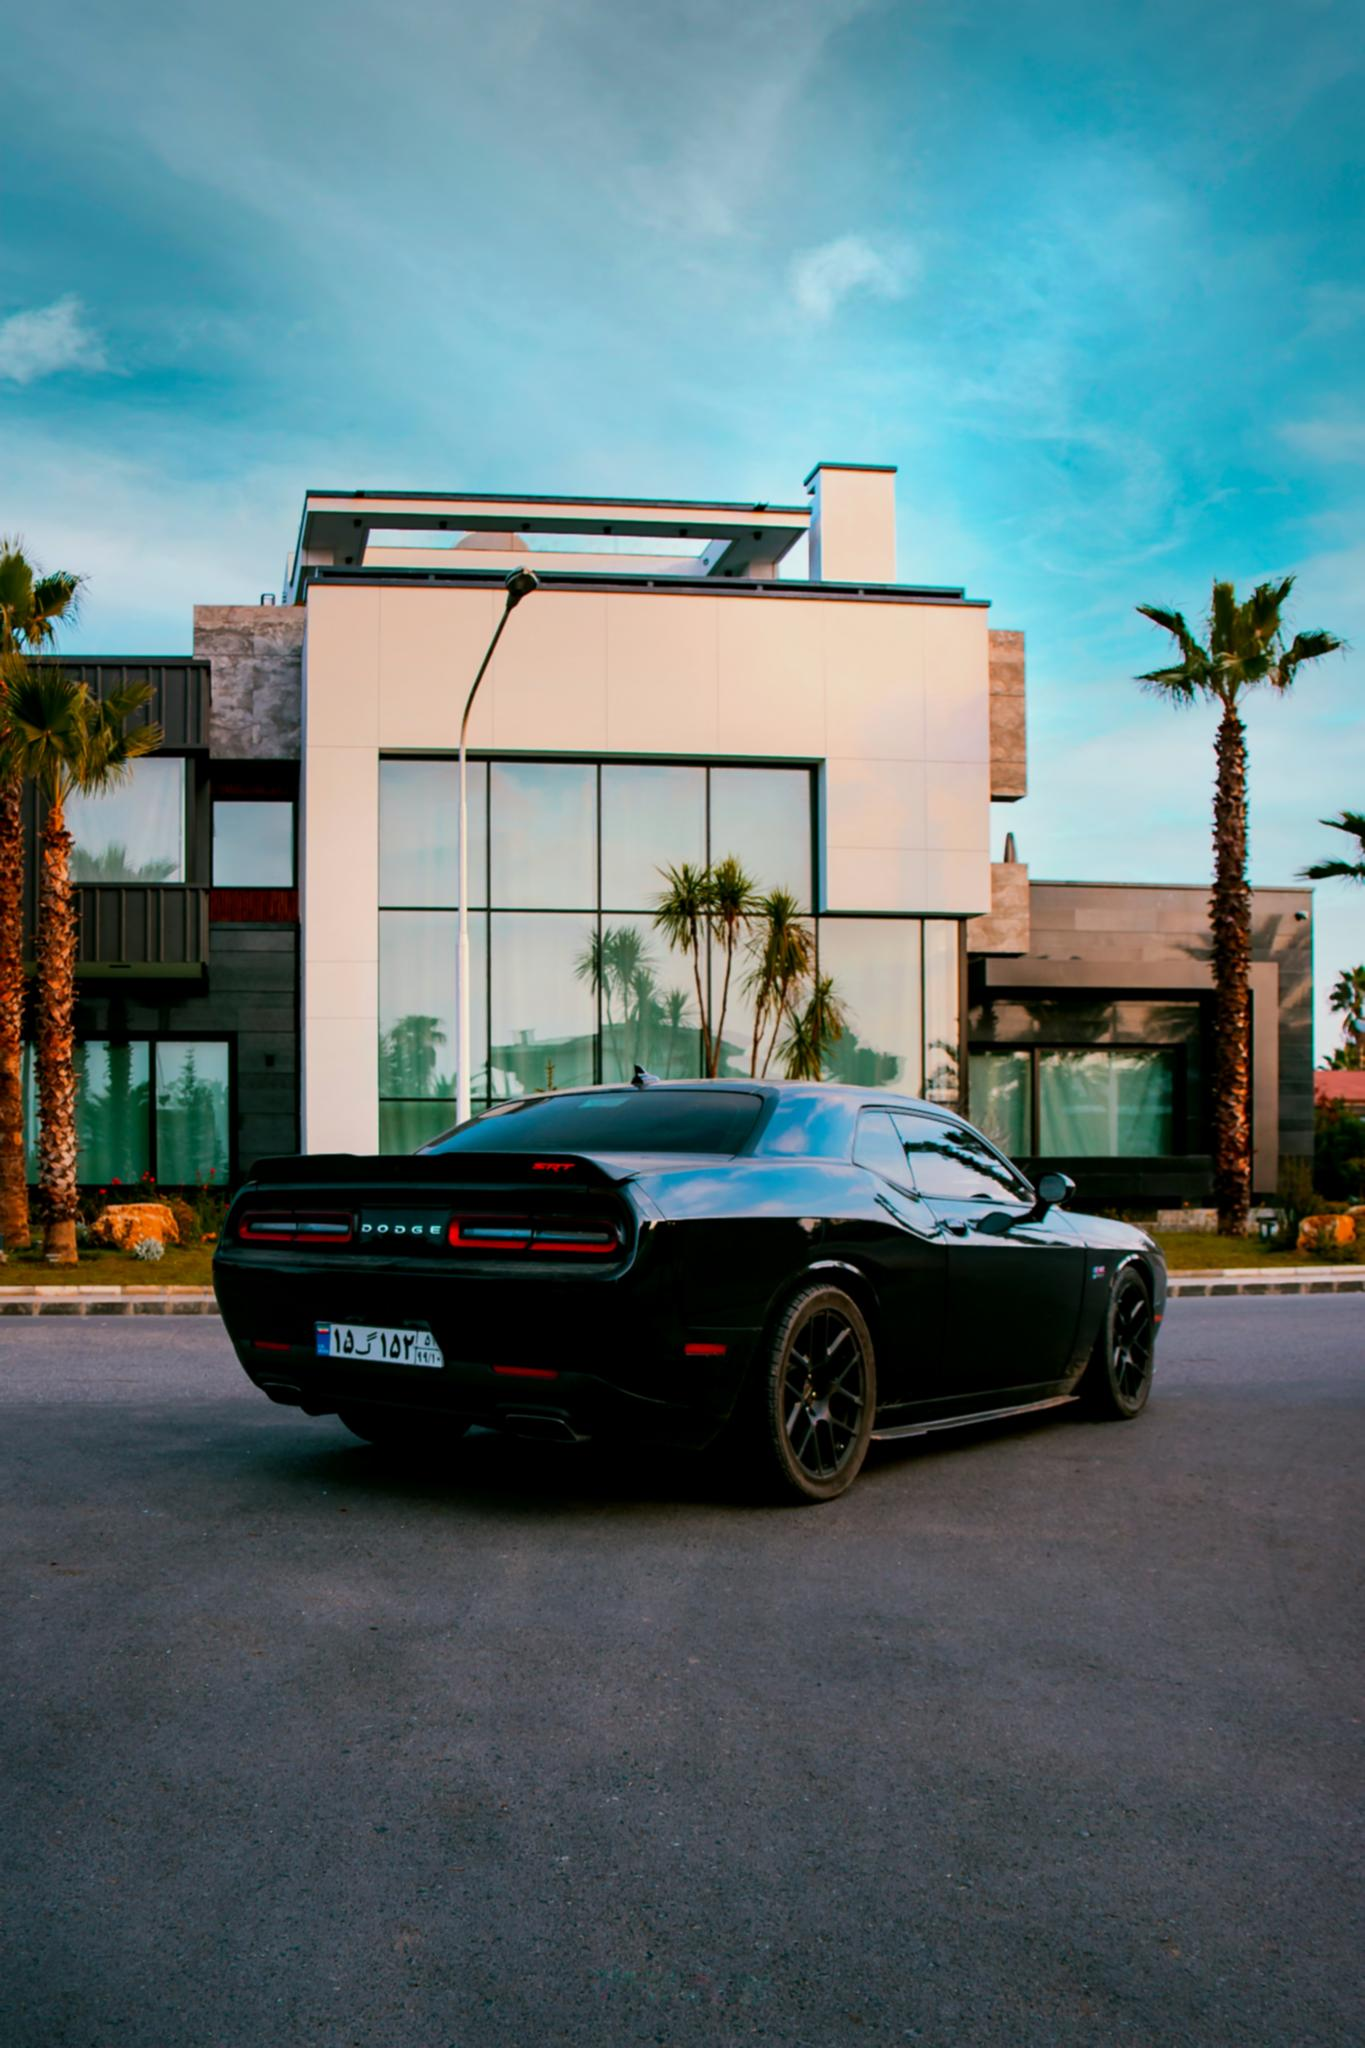dodge: (349, 1209, 462, 1255)
